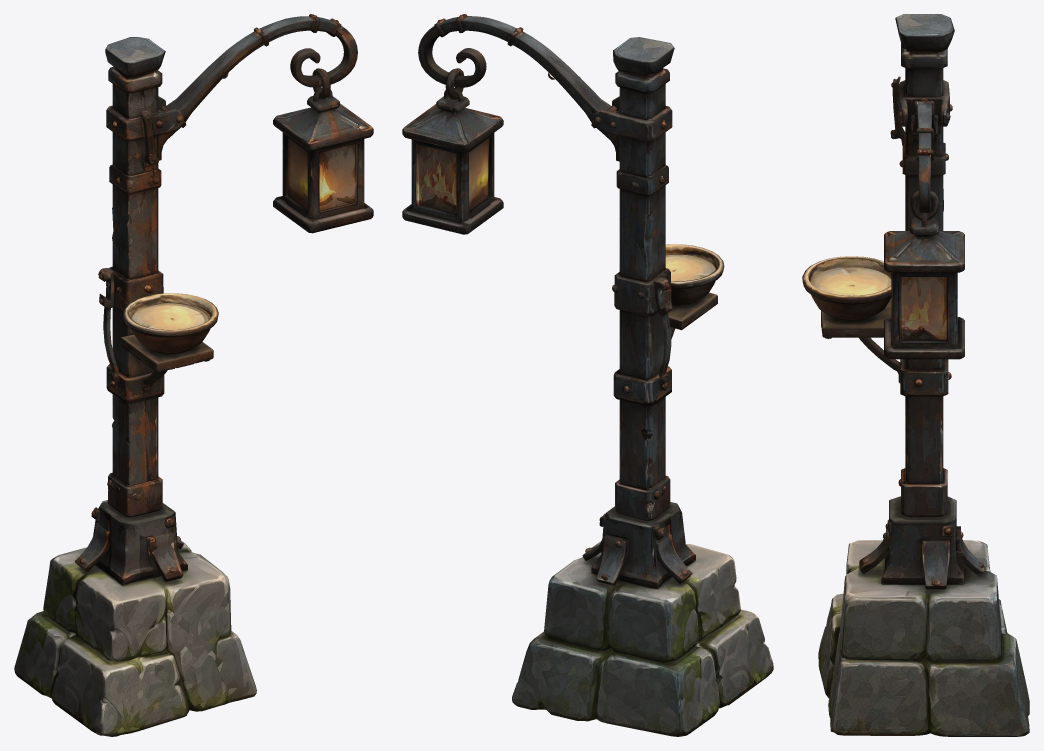
The model's file is act1-a16-6-sexton-lamp.glb.
3 renders of one model, left to right at view 1: azimuth 30°, elevation 25°; view 2: azimuth 150°, elevation 25°; view 3: azimuth 270°, elevation 25°, orthographic. The views are drawn at different scales.
Parts seen in each view (by area): view 1: act1-a16-6-sexton-lamp; view 2: act1-a16-6-sexton-lamp; view 3: act1-a16-6-sexton-lamp.
Part boxes in pixels (x1=…): act1-a16-6-sexton-lamp: x1=14, y1=14, x2=373, y2=736; act1-a16-6-sexton-lamp: x1=402, y1=14, x2=773, y2=736; act1-a16-6-sexton-lamp: x1=802, y1=14, x2=1029, y2=736.
Size of the model in its own units: 1.3 by 2.6 by 0.7989.
1 material, 1 textured.
